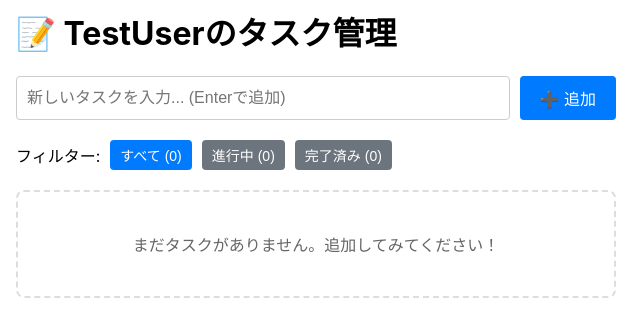
Scenario: Data Persistence Integration Tests (US5) › localStorage保存・復元の受入シナリオ › AS-005: タスク追加後にlocalStorageに保存される
Type "永続化テスト" into the field with placeholder "新しいタスクを入力... (Enterで追加)". click: (263, 98)
box: 16,76 -> 510,120
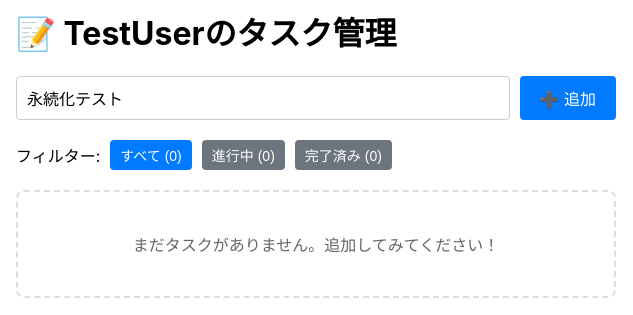
Click the button "➕ 追加". click: (568, 98)
box: 520,76 -> 616,120
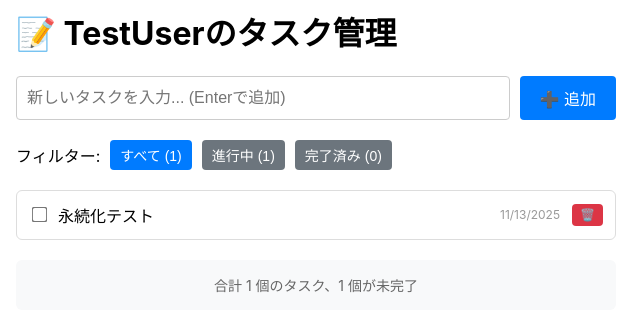
Expected: the text "永続化テスト" is shown, 58,206 -> 154,226
